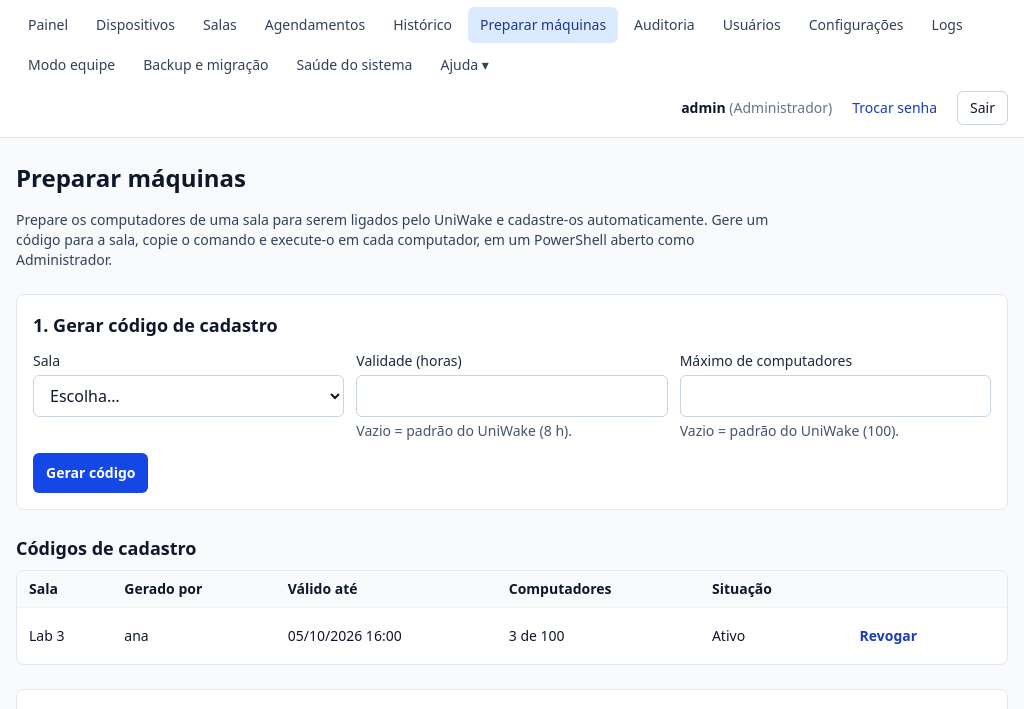
Preparar máquinas (FR-007.3) › shows the hub error when no command can be built
This screenshot has width=1024, height=709.
Select "Lab 3 (LAB3)" in the dropdown labelled "Sala": (189, 396) x1=33 y1=375 x2=344 y2=417
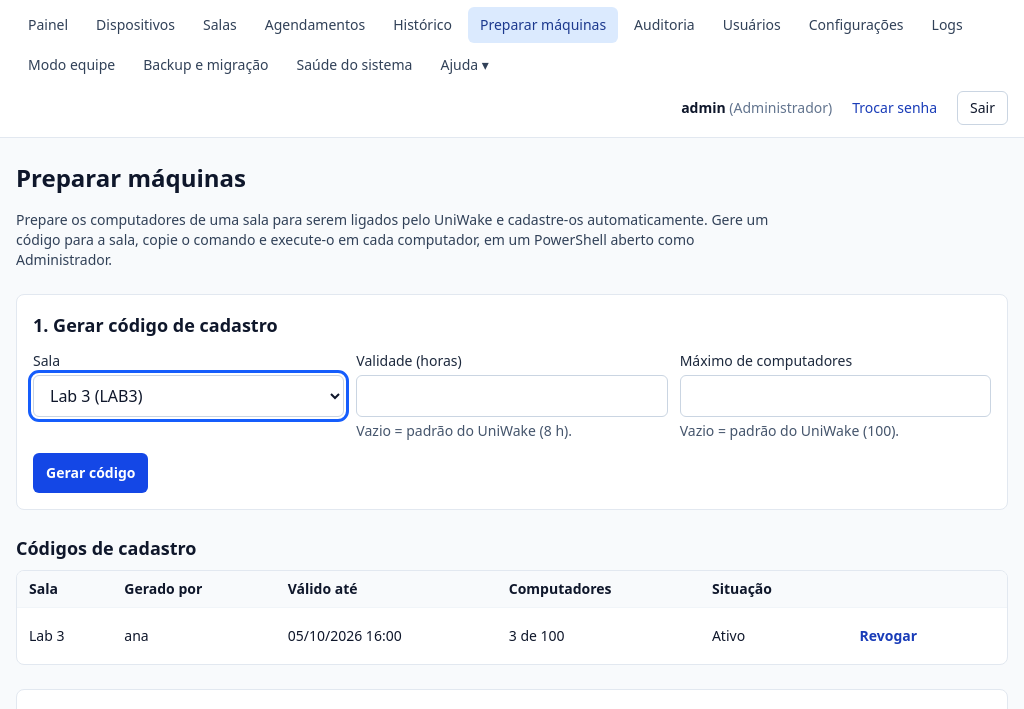
Click the button "Gerar código": click(91, 473) x1=33 y1=453 x2=148 y2=493
(page scrolled)
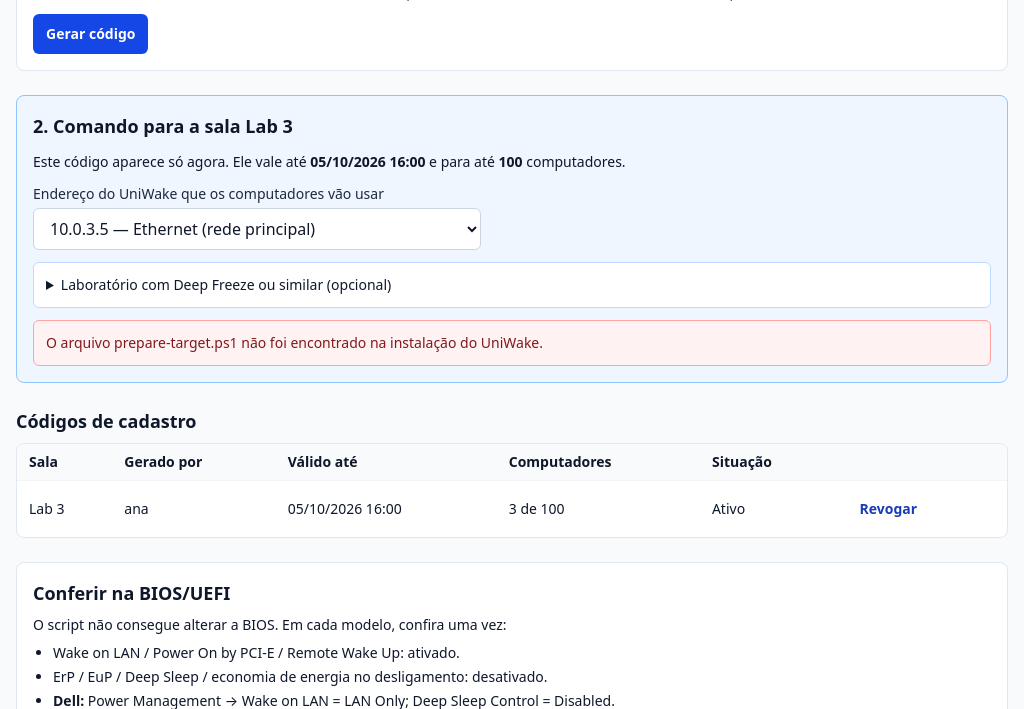
Expected: the text "O arquivo prepare-target.ps1 não foi encontrado na instalação do UniWake." is shown, x1=33 y1=320 x2=991 y2=366
